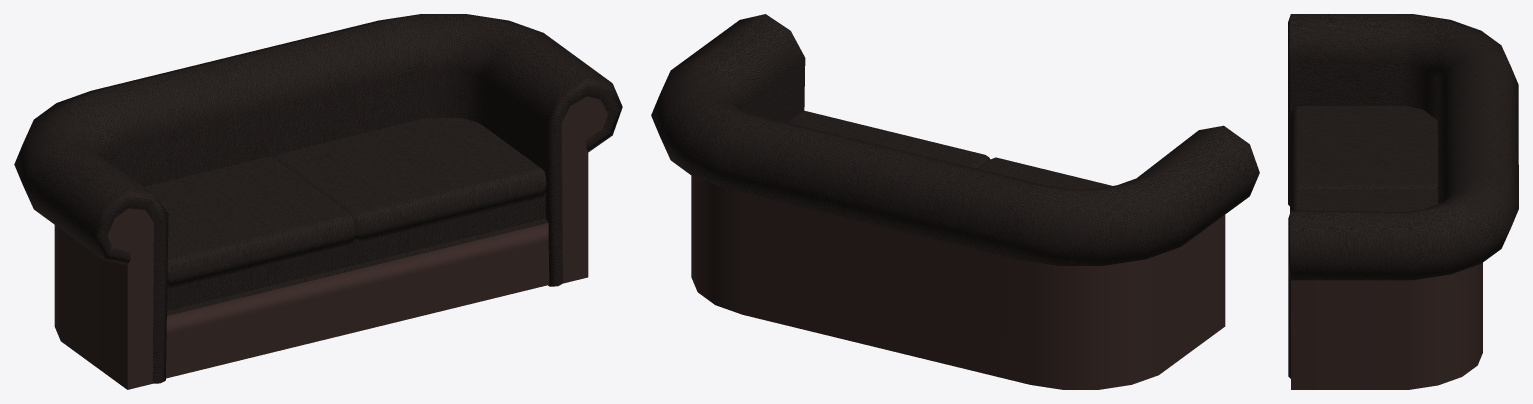
Rendered from sofa_014.fbx.
3 views of the same model, side by side, from view 1: azimuth 30°, elevation 25°; view 2: azimuth 150°, elevation 25°; view 3: azimuth 270°, elevation 25° (orthographic). The views are drawn at different scales.
Parts seen in each view (by area): view 1: sofa_014; view 2: sofa_014; view 3: sofa_014.
Boxes of the visible parts, box(x1,y1,x2,y2) form: sofa_014: box(14, 14, 622, 389); sofa_014: box(651, 14, 1259, 389); sofa_014: box(1288, 14, 1518, 389).
Bounding box in the file's own units: 307 × 131 × 111.
